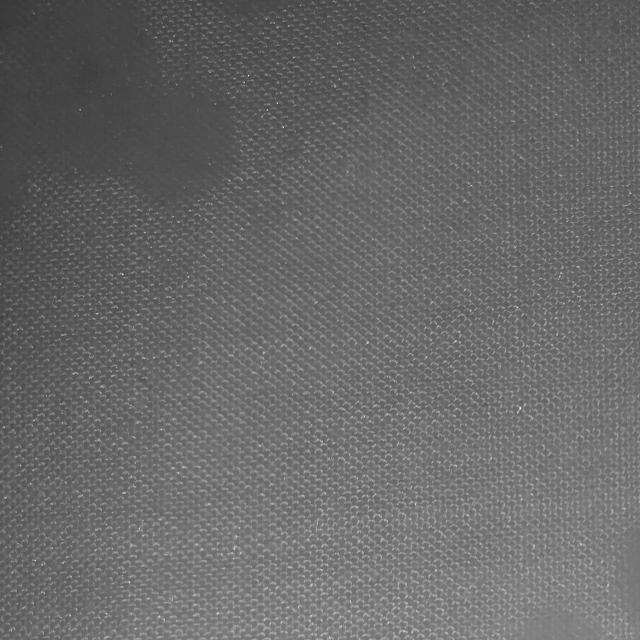Stain: (0, 1, 232, 228)
